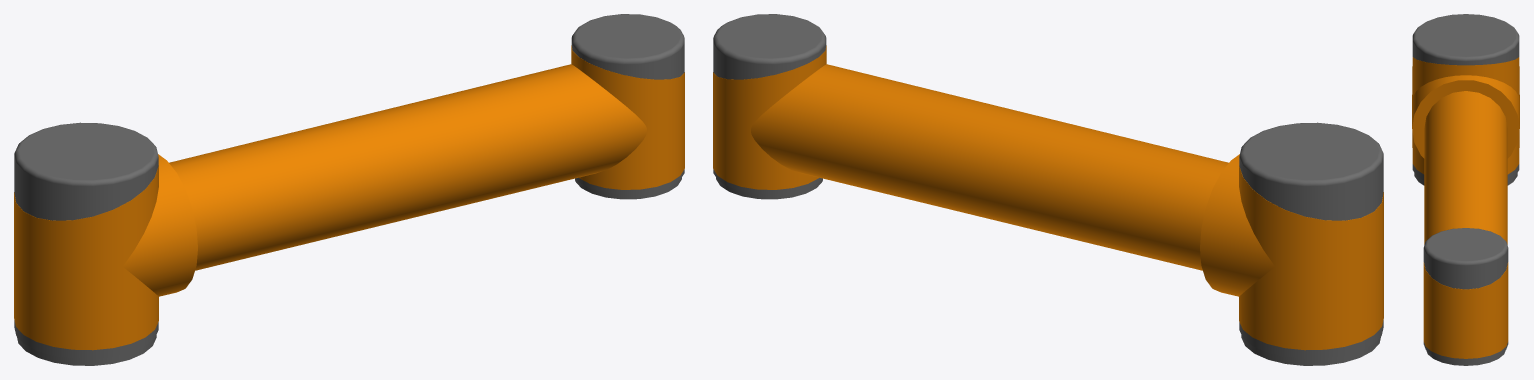
The picture shows the model from 3 angles, left to right: view 1: azimuth 30°, elevation 25°; view 2: azimuth 150°, elevation 25°; view 3: azimuth 270°, elevation 25°; orthographic projection. The views are drawn at different scales.
Visible parts, largest first — view 1: NONE; view 2: NONE; view 3: NONE.
Boxes of the visible parts, box(x1,y1,x2,y2) form: NONE: box(14, 14, 684, 365); NONE: box(713, 14, 1383, 365); NONE: box(1412, 14, 1519, 365).
Bounding box in the file's own units: 0.781 × 0.15 × 0.211.
